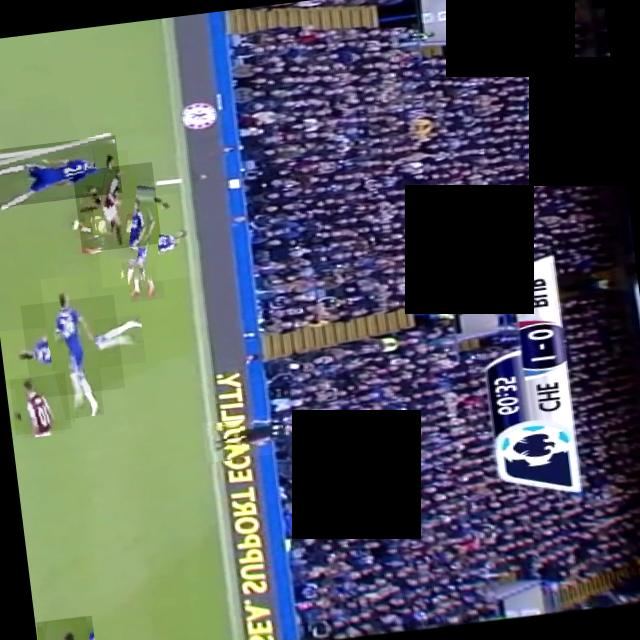ball: (91, 215, 112, 235)
referee: (202, 408, 310, 461)
soccer-player: (20, 293, 124, 398), (0, 133, 122, 207), (92, 192, 188, 286), (72, 160, 161, 252), (8, 371, 72, 434), (35, 614, 97, 640)
